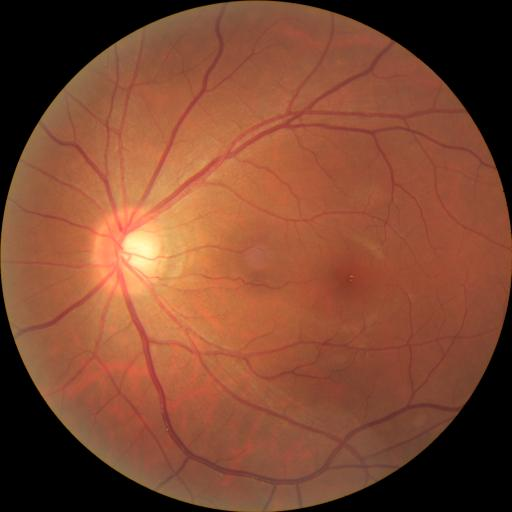Optic Cup: (119, 230, 160, 271)
Optic Disc: (94, 206, 169, 293)
